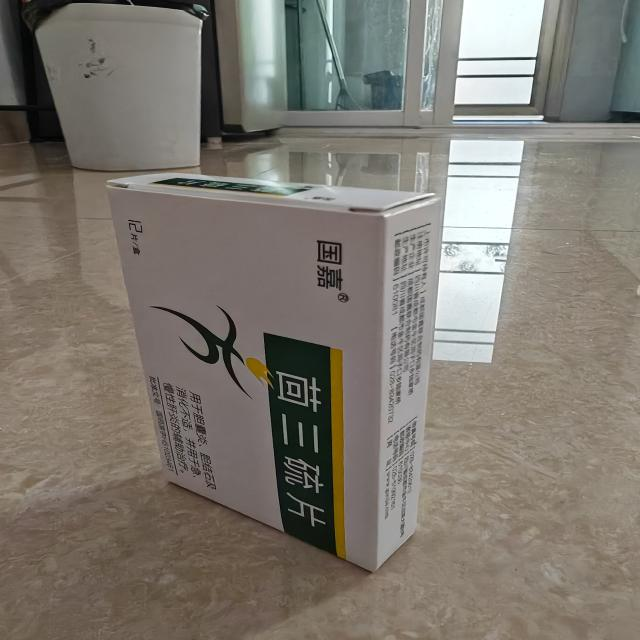box: (98, 167, 449, 580)
